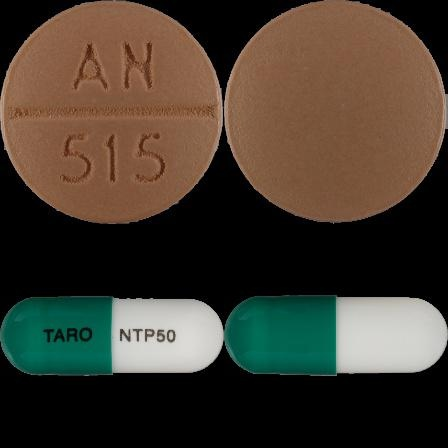50090-1308: (0, 0, 224, 224)
